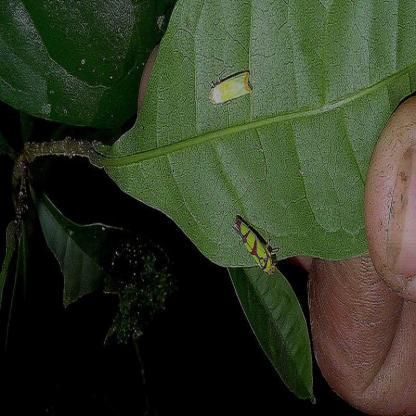green-leafhopper: (234, 209, 281, 277), (204, 68, 262, 113)
